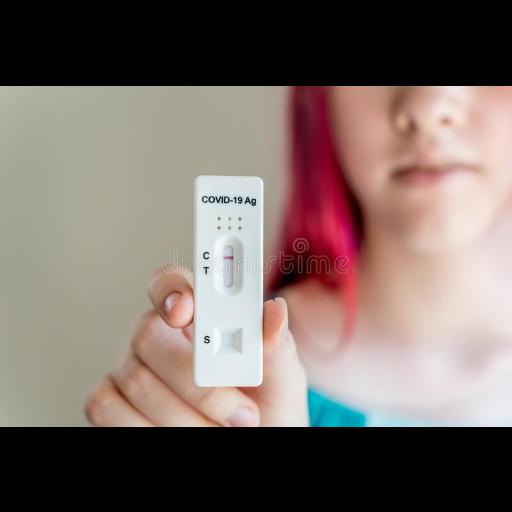Neg: (194, 174, 262, 386)
